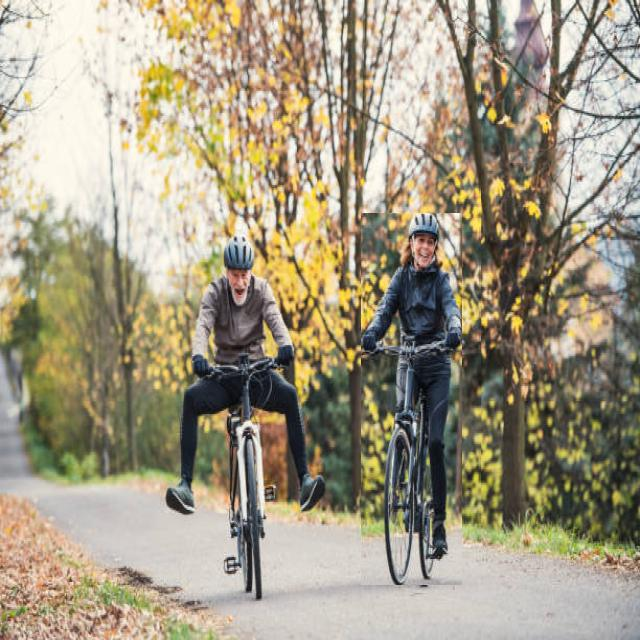bicycle: (166, 234, 325, 597), (361, 214, 462, 585)
